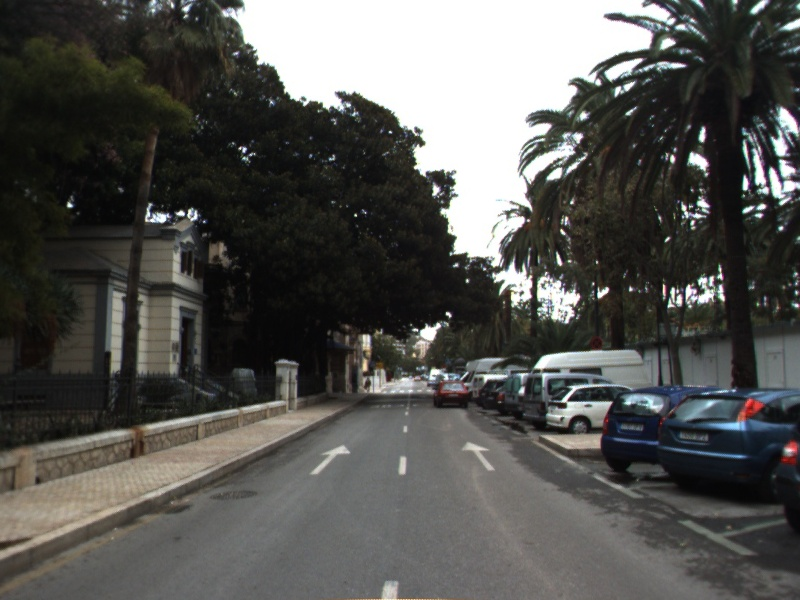STRAIGHT: (307, 443, 353, 477), (459, 440, 497, 473)
